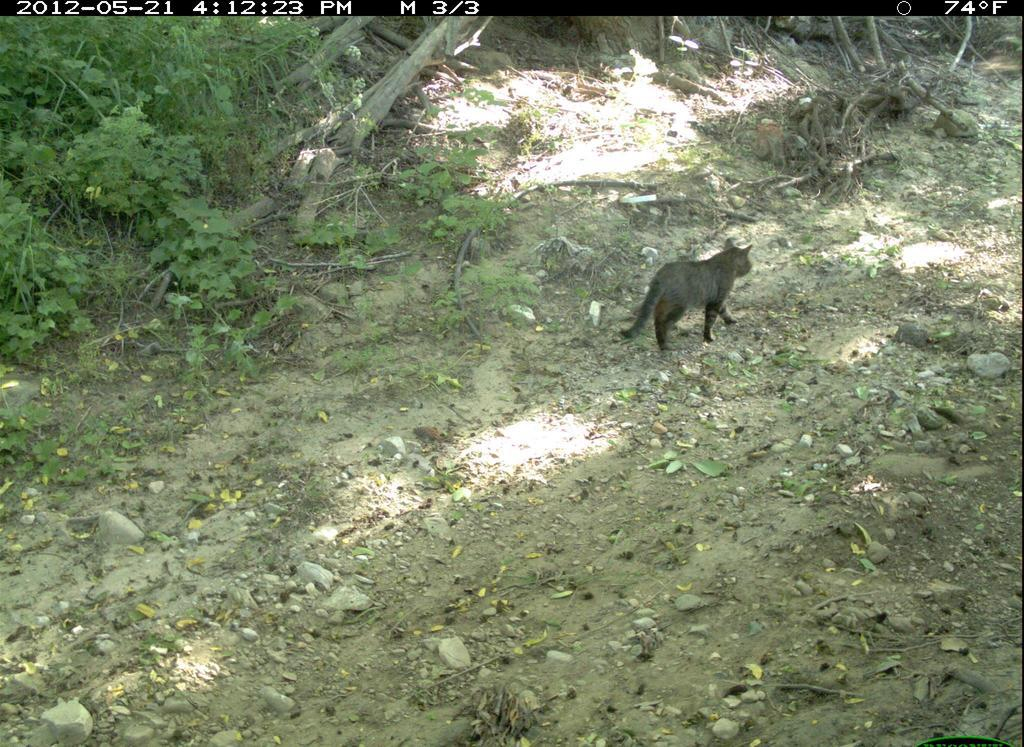cat: (623, 228, 760, 362)
